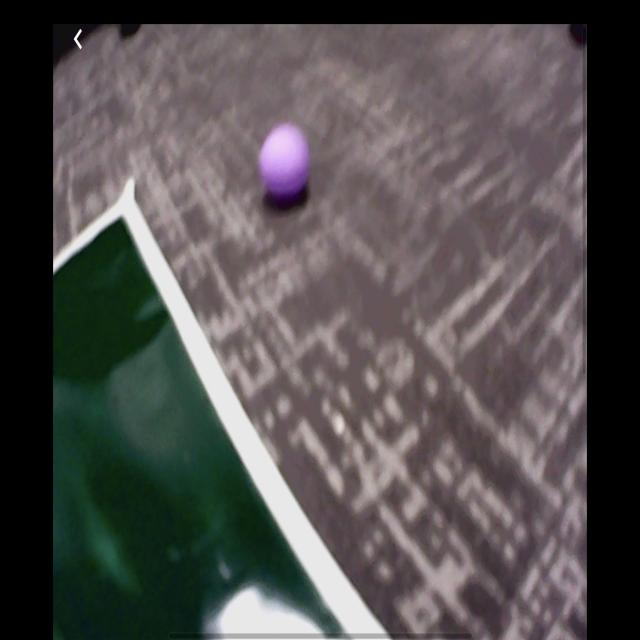ball: (258, 121, 311, 205)
